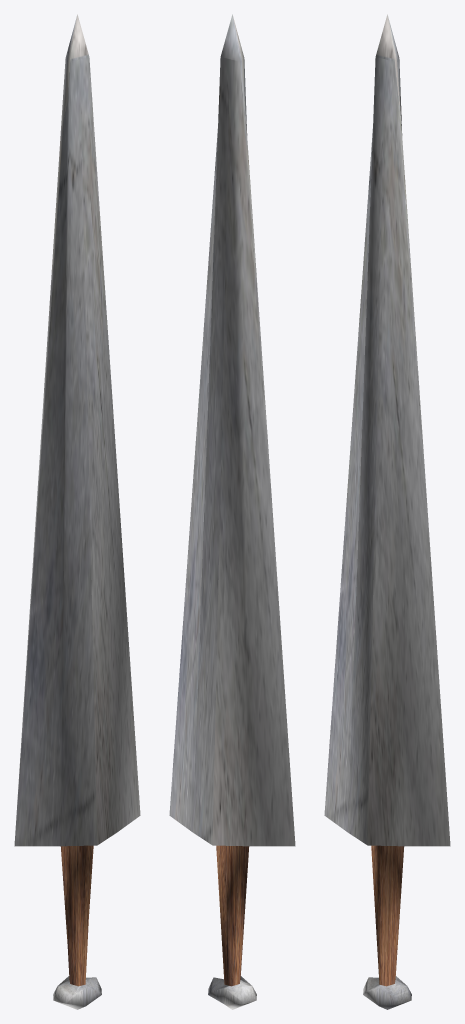
The model's file is Sword1.glb.
3 renders of one model, left to right at view 1: azimuth 30°, elevation 25°; view 2: azimuth 150°, elevation 25°; view 3: azimuth 330°, elevation 25°, orthographic.
Visible parts, largest first — view 1: Sword; view 2: Sword; view 3: Sword.
Part boxes in pixels (left/top/right/bottom): Sword: left=14, top=14, right=140, bottom=1009; Sword: left=169, top=14, right=295, bottom=1009; Sword: left=324, top=14, right=450, bottom=1009.
Bounding box in the file's own units: 0.1182 × 0.8923 × 0.0646.
3 materials, 3 textured.
